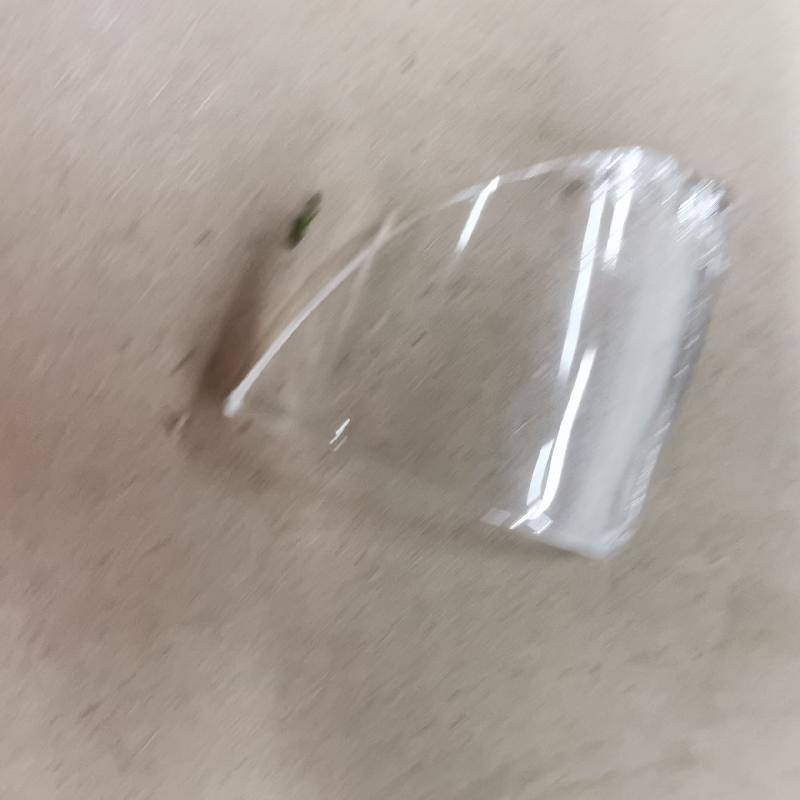glass: (211, 143, 742, 572)
